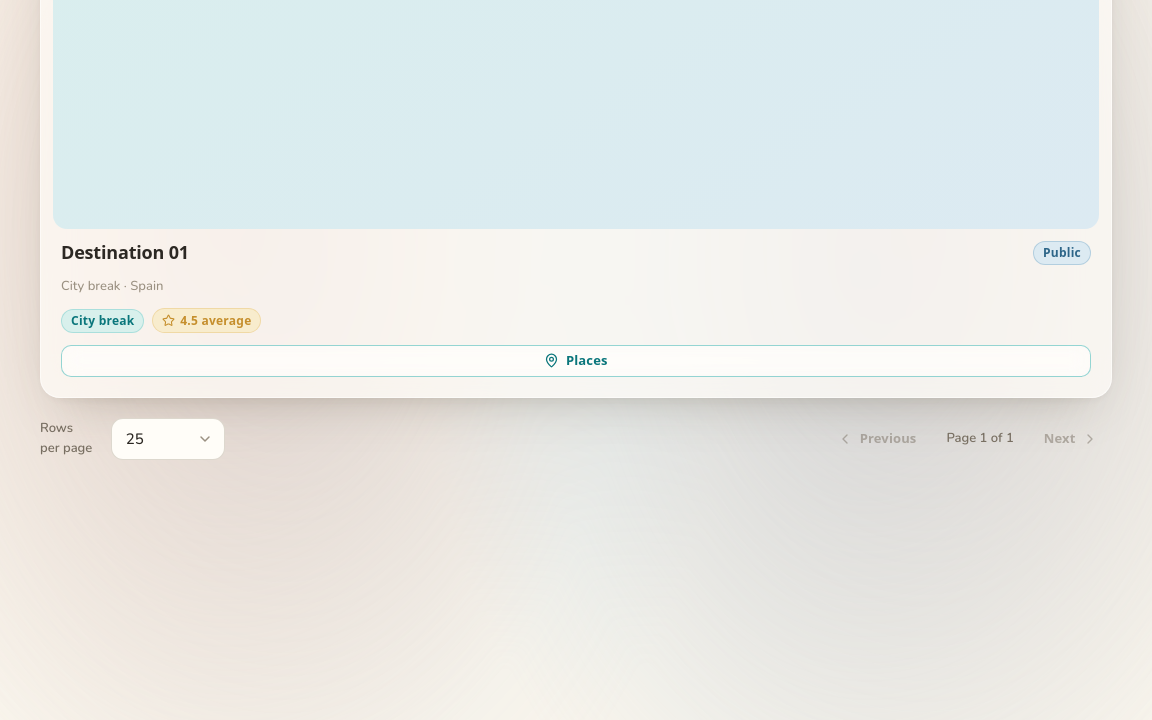
Test: Destinations page › navigates from a card to the destination-scoped places route
The width and height of the screenshot is (1152, 720).
(page scrolled)
Expected: the heading "Destination 01" is shown, [61,241,189,264]
Click the button with aria-label "Open places for Destination 01". click: (576, 361)
box: [61,345,1091,376]
(page scrolled)
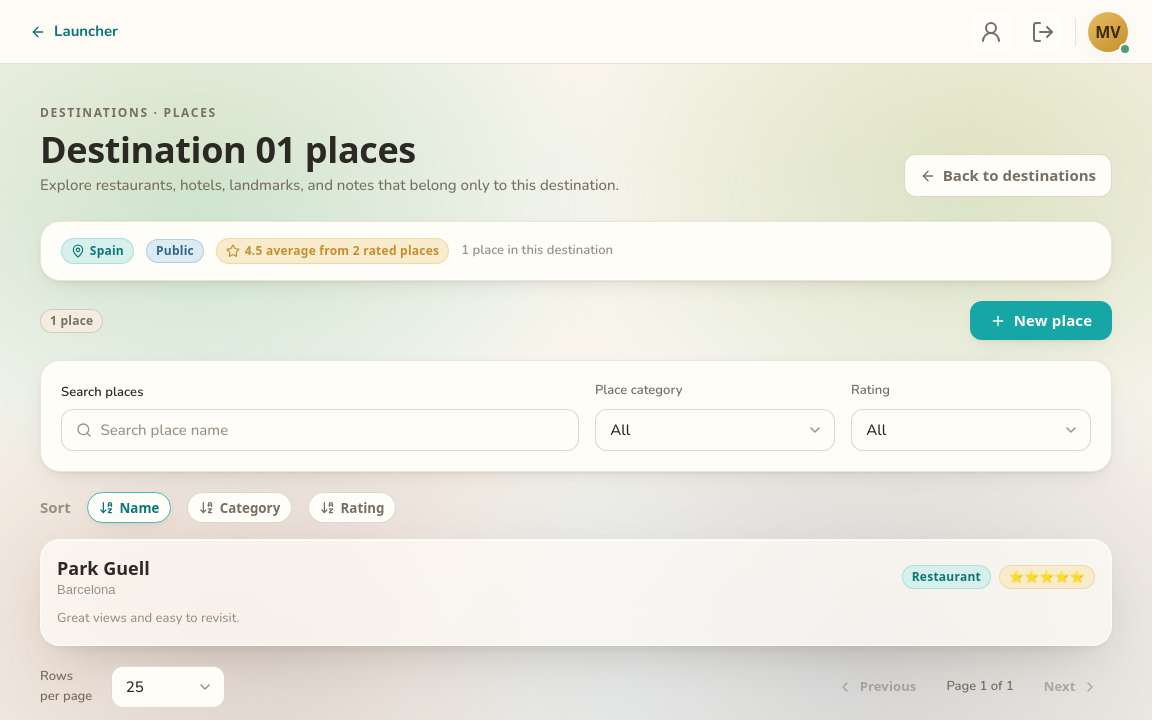
Now the heading "Destination 01 places" is shown, box [40,125,416,174]
Now the text "Park Guell" is shown, box [57,556,150,580]
Now the text "⭐⭐⭐⭐⭐" is shown, box [1009,571,1085,583]
